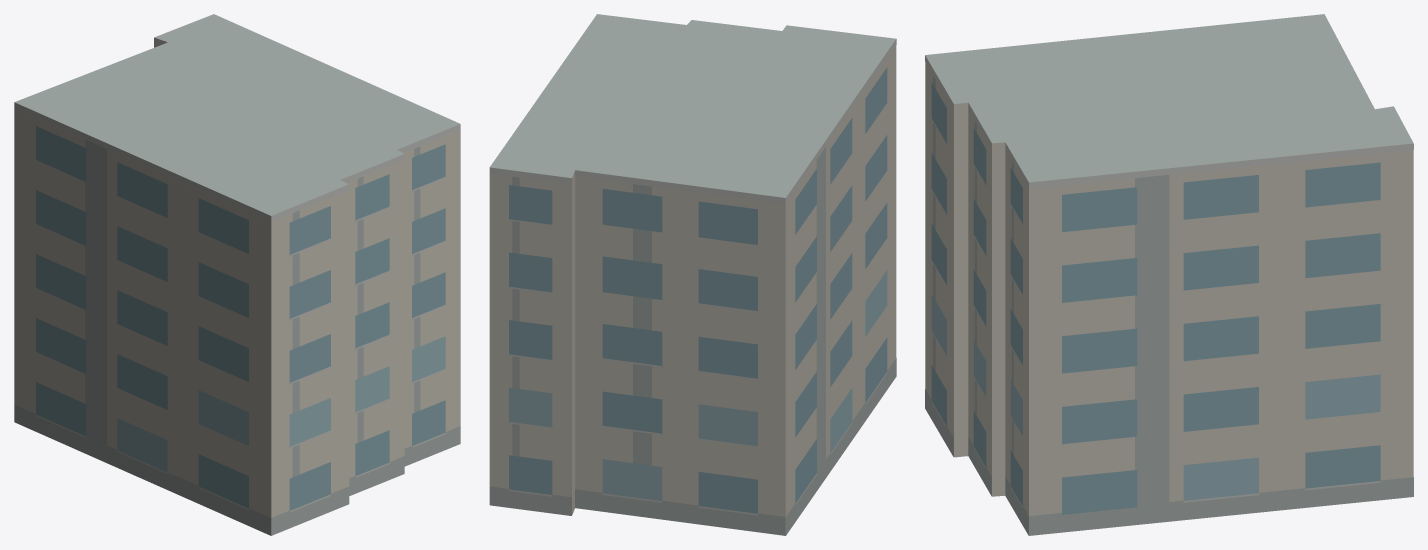
File: survey-upis-32571426.glb
The picture shows the model from 3 angles, left to right: view 1: azimuth 30°, elevation 25°; view 2: azimuth 150°, elevation 25°; view 3: azimuth 270°, elevation 25°; orthographic projection. The views are drawn at different scales.
Parts seen in each view (by area): view 1: survey-upis-32571426.tmp; view 2: survey-upis-32571426.tmp; view 3: survey-upis-32571426.tmp.
Part boxes in pixels (x1=…): survey-upis-32571426.tmp: x1=14, y1=14, x2=460, y2=535; survey-upis-32571426.tmp: x1=489, y1=14, x2=896, y2=535; survey-upis-32571426.tmp: x1=925, y1=14, x2=1413, y2=535.
Bounding box in the file's own units: 13.61 × 13.3 × 16.68.
